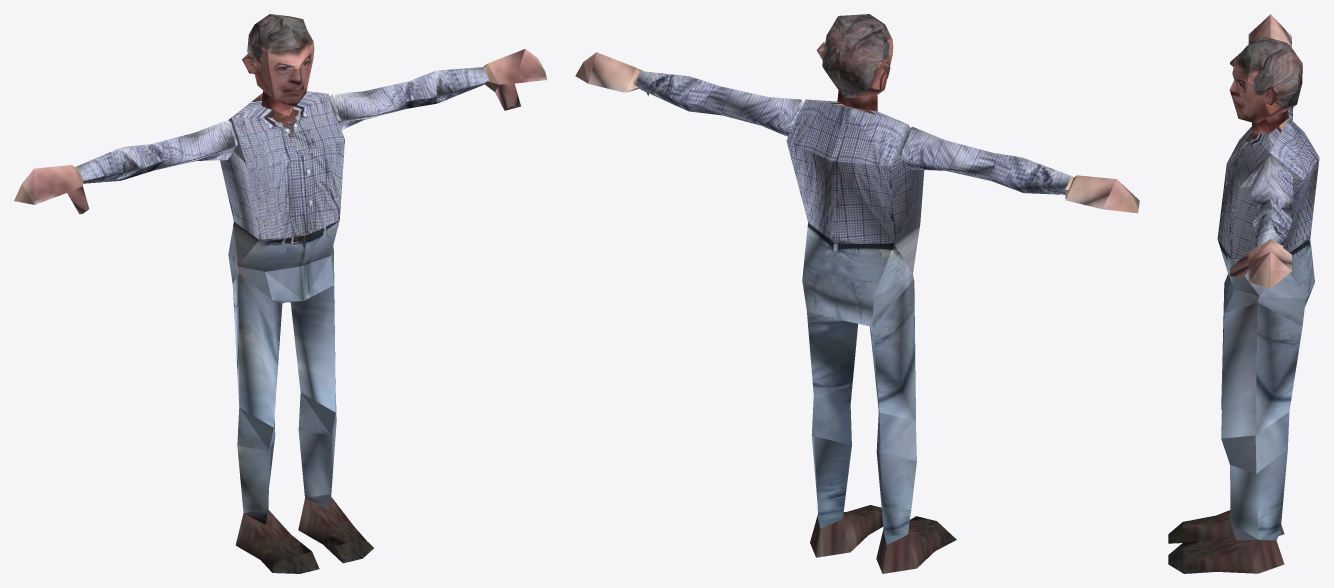
File: hotel_owner.obj
3 views of the same model, side by side, from view 1: azimuth 30°, elevation 25°; view 2: azimuth 150°, elevation 25°; view 3: azimuth 270°, elevation 25° (orthographic). The views are drawn at different scales.
Parts seen in each view (by area): view 1: boy.001; view 2: boy.001; view 3: boy.001.
Part boxes in pixels (box(x1,y1,x2,y2)): boy.001: box(14, 14, 546, 573); boy.001: box(575, 14, 1139, 573); boy.001: box(1168, 14, 1319, 573).
Size of the model in its own units: 1.83 by 1.68 by 0.4537.
1 material, 1 textured.
